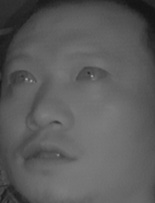eye: (74, 63, 110, 87), (8, 66, 39, 88)
mouth: (18, 137, 77, 175)
